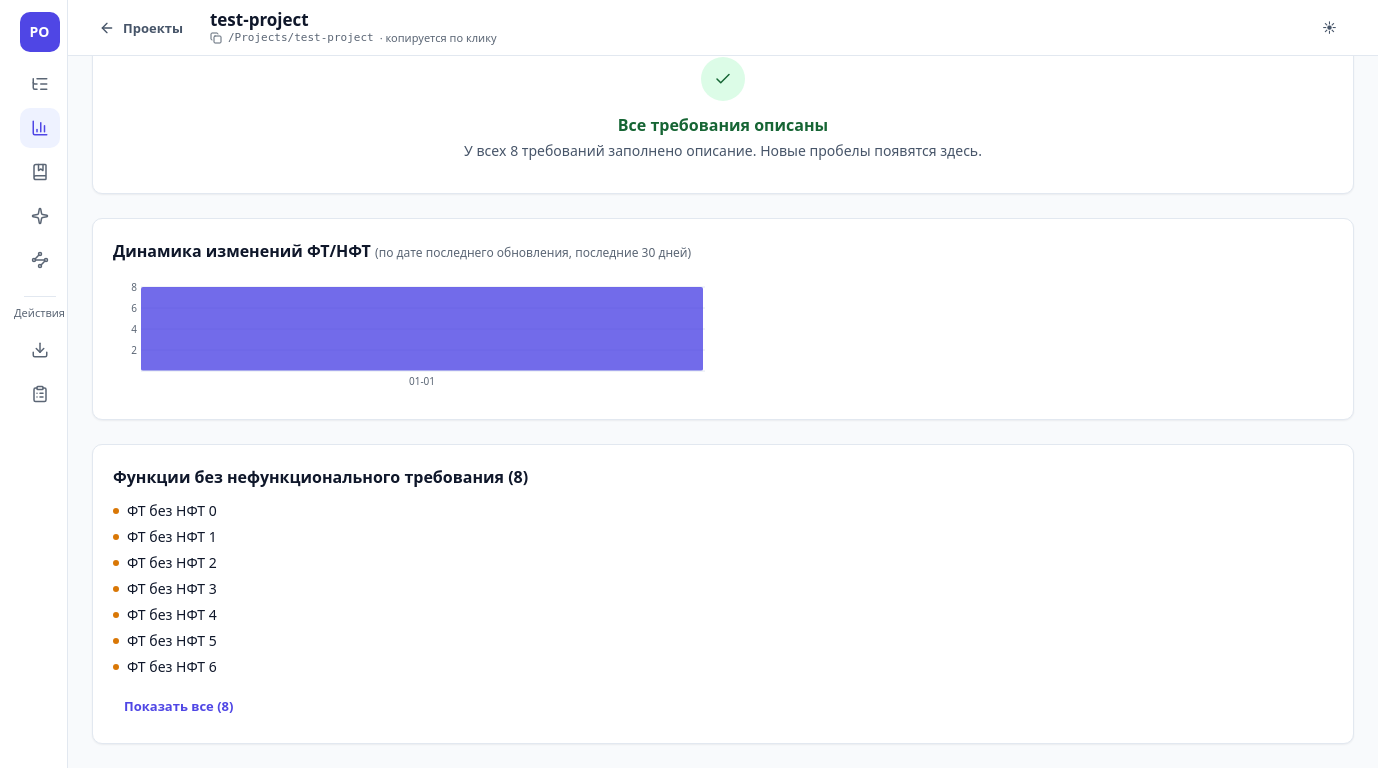
Dashboard (T-513 / T-514) › modal openers (onOpen / onOpenExport / onOpenTasks) › «ФТ без НФТ» list beyond the limit toggles show-all (setShowAllFnWithoutNfr)
The width and height of the screenshot is (1378, 768).
(page scrolled)
Click the button with test id "dashboard-nfr-missing-show-all". click: (179, 706)
box: [113, 689, 244, 723]
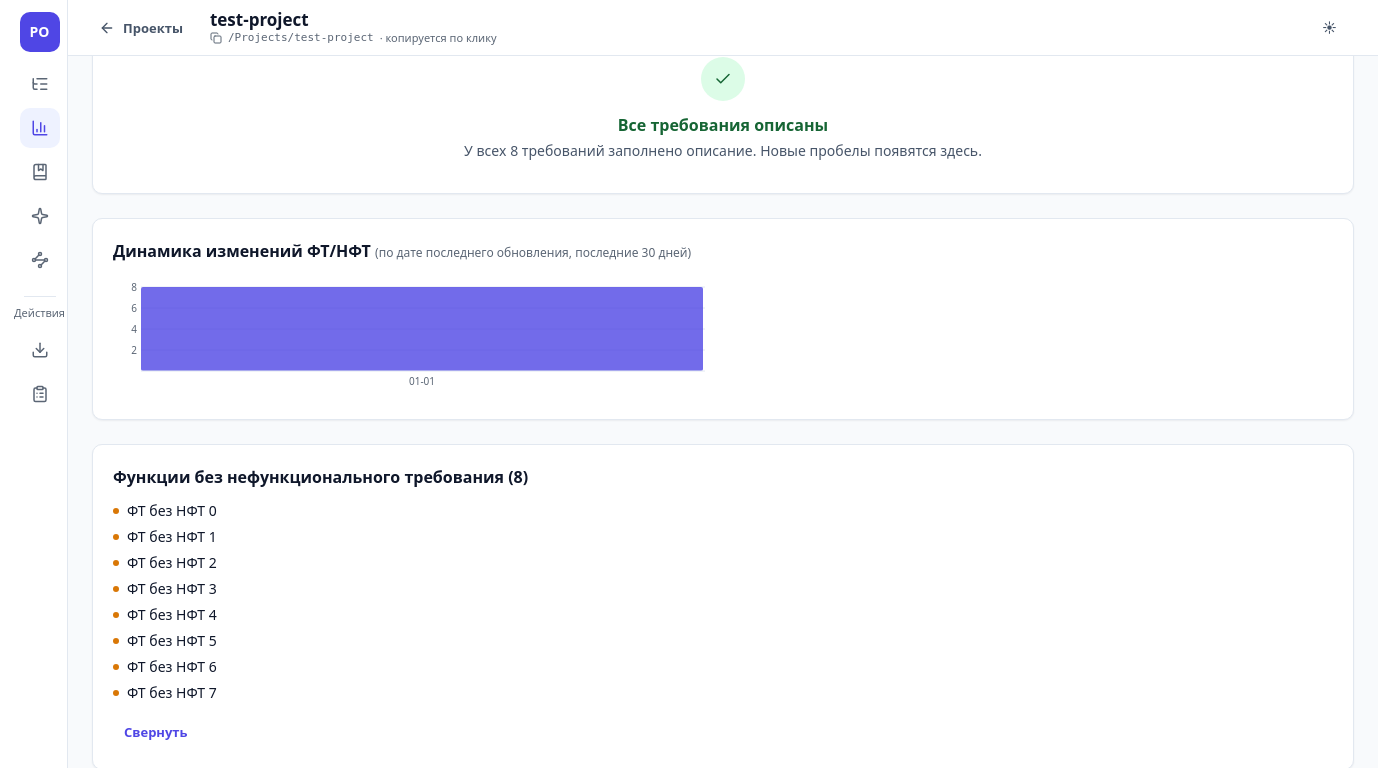
Expected: the list item "ФТ без НФТ 7" is shown, [113, 683, 217, 702]
Expected: the button with test id "dashboard-nfr-missing-show-all" reads "Свернуть", [113, 715, 198, 749]
